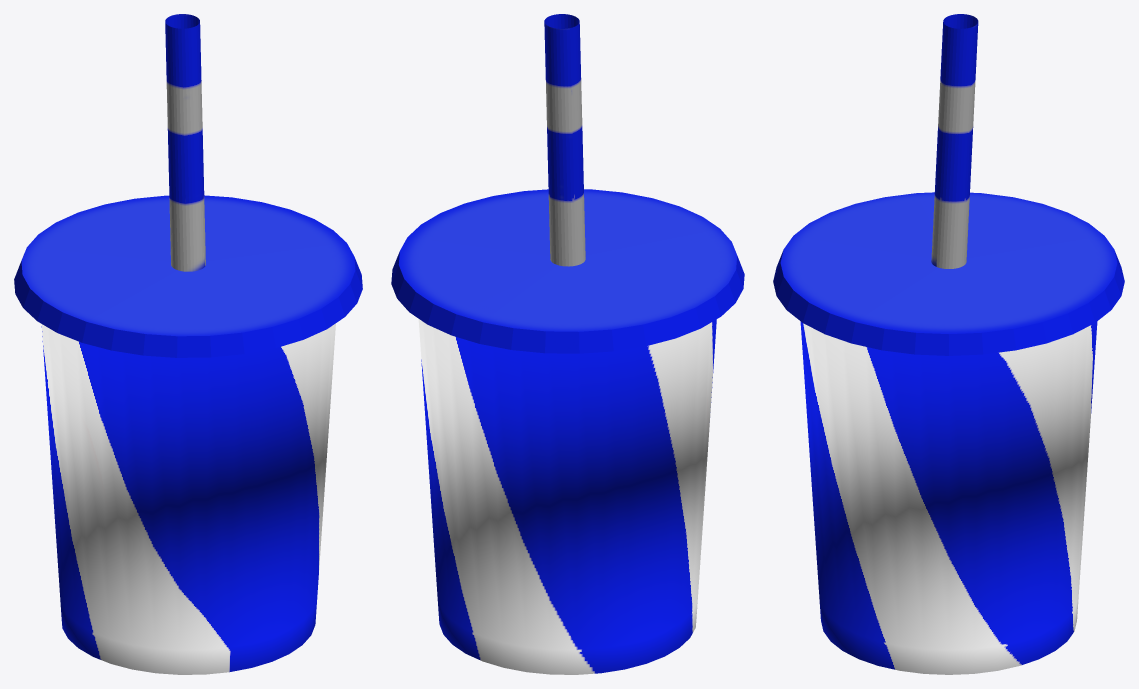
The model's file is SODA.fbx.
The picture shows the model from 3 angles, left to right: view 1: azimuth 30°, elevation 25°; view 2: azimuth 150°, elevation 25°; view 3: azimuth 270°, elevation 25°; orthographic projection.
Visible parts, largest first — view 1: Cylinder, Sphere; view 2: Cylinder, Sphere; view 3: Cylinder, Sphere.
Part boxes in pixels (left/top/right/bottom): Cylinder: left=41, top=323, right=335, bottom=674; Sphere: left=14, top=14, right=362, bottom=357; Cylinder: left=418, top=319, right=716, bottom=674; Sphere: left=391, top=14, right=744, bottom=353; Cylinder: left=800, top=321, right=1097, bottom=674; Sphere: left=773, top=14, right=1124, bottom=355.
Size of the model in its own units: 10.74 by 20.2 by 10.74.
